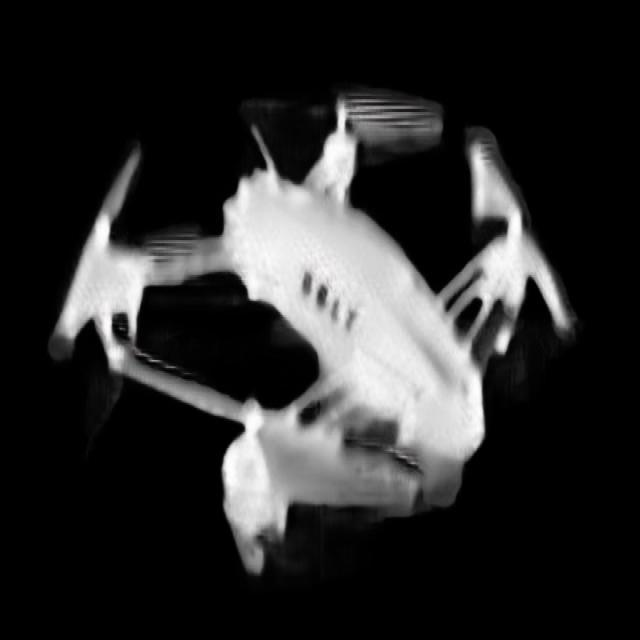drone: (45, 78, 580, 586)
